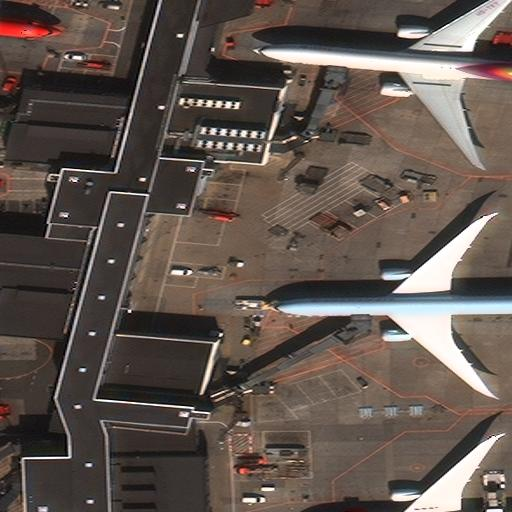Large Civil Transport: (265, 220, 512, 395), (251, 0, 512, 164), (328, 439, 512, 512), (0, 0, 63, 49)
